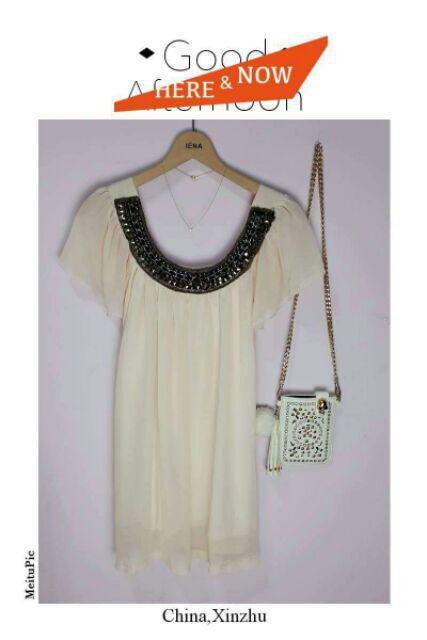Dresses: (55, 164, 326, 574)
